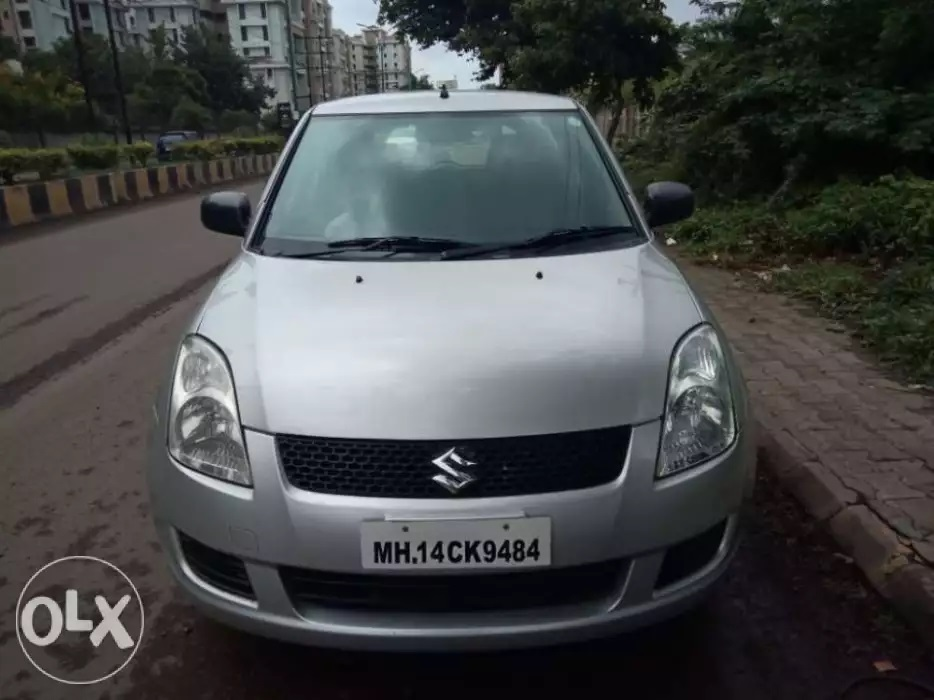licenseplate: (358, 518, 555, 573)
